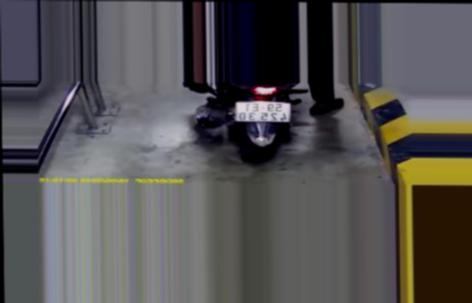License_Plate: (232, 96, 292, 129)
